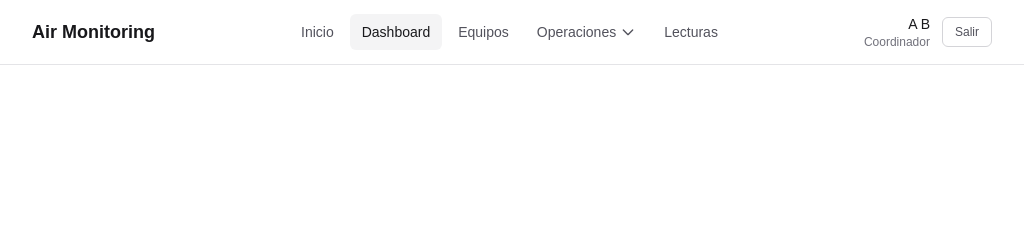
Scenario: Header — Operaciones dropdown open/close › opens the dropdown, shows items, and links to correct routes
Click the button "Operaciones" at (586, 32), box [525,14,648,50]
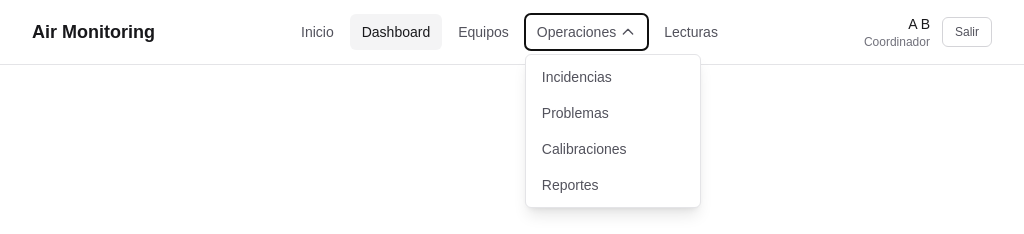
Now the link "Incidencias" is shown, box [542,69,612,85]
Now the link "Problemas" is shown, box [542,105,609,121]
